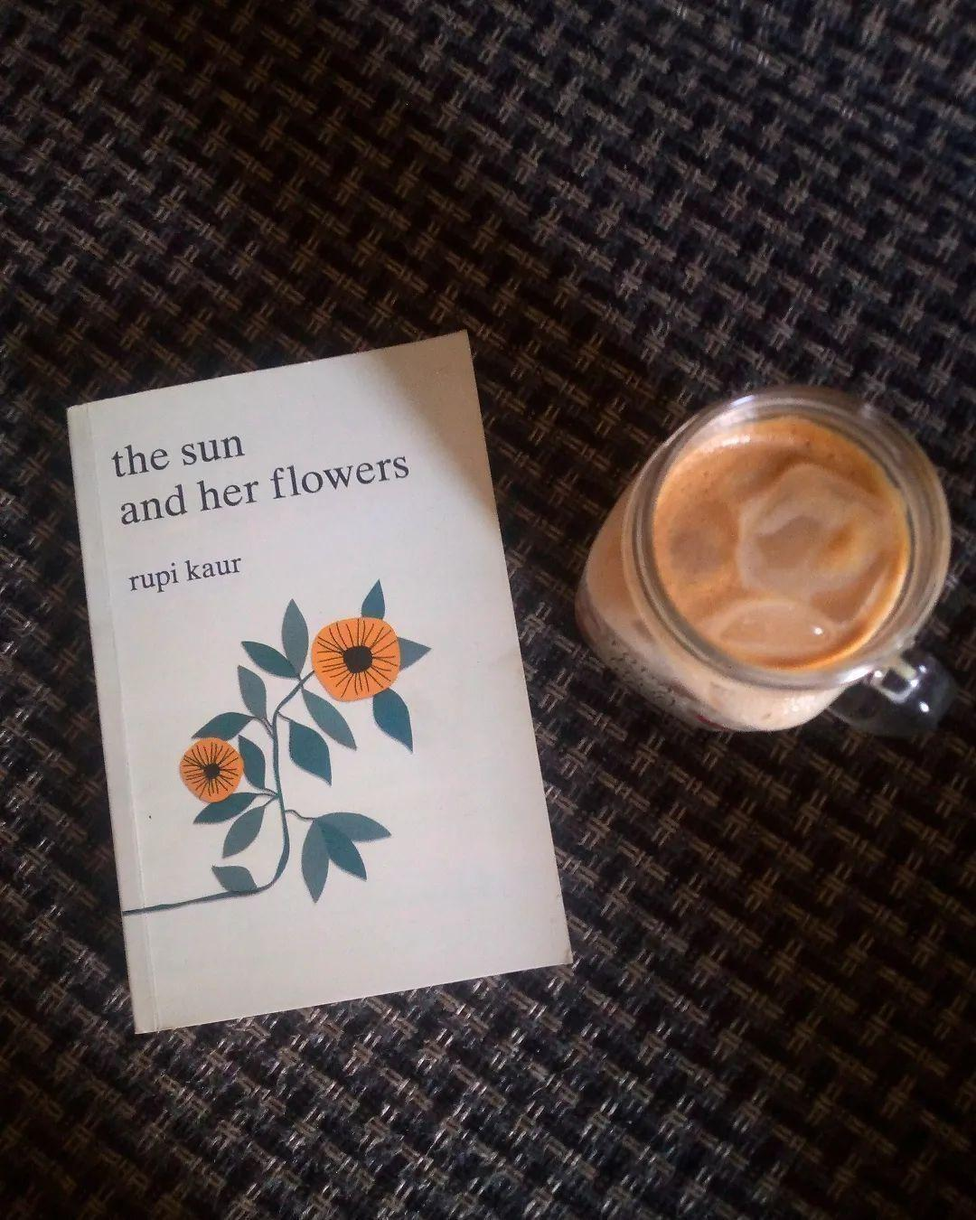glass-mug: (579, 365, 976, 768)
